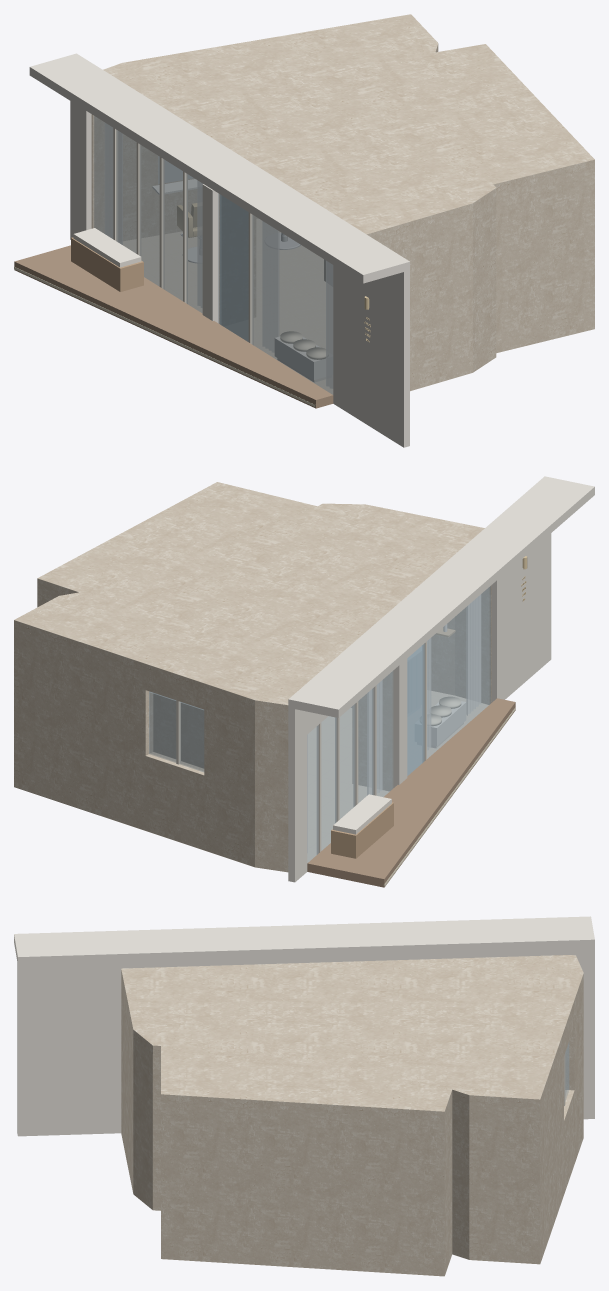
The model's file is salon.glb.
The picture shows the model from 3 angles, top to bottom: view 1: azimuth 30°, elevation 25°; view 2: azimuth 150°, elevation 25°; view 3: azimuth 270°, elevation 25°; orthographic projection. The views are drawn at different scales.
Parts seen in each view (by area): view 1: Geom3D_ (×16), Geom3D (×5); view 2: Geom3D_ (×14), Geom3D (×5); view 3: Geom3D (×4), Geom3D_.
Part boxes in pixels (<box>): Geom3D_ (×16): <box>14,14,594,408</box>; Geom3D (×5): <box>29,53,594,447</box>; Geom3D_ (×14): <box>14,482,515,887</box>; Geom3D (×5): <box>14,476,594,882</box>; Geom3D (×4): <box>14,916,594,1276</box>; Geom3D_: <box>121,955,583,1119</box>.
Size of the model in its own units: 7.56 by 3.23 by 9.49.
43 materials, 10 textured.
